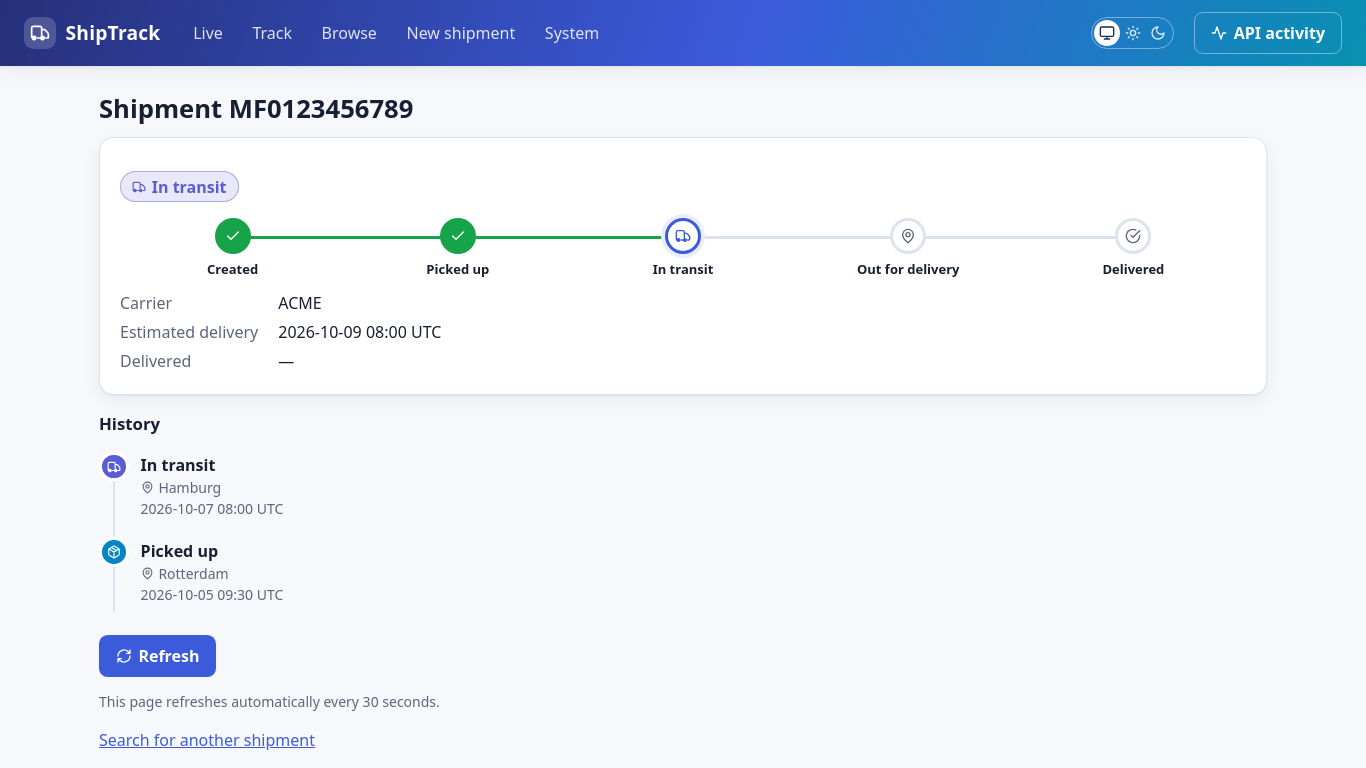
Test: track page: refreshing › refreshes on demand with the Refresh button
This screenshot has width=1366, height=768.
Expected: the text "In transit" is shown, [120,171,239,202]
Click the button "Refresh".
click(158, 656)  # box [99,635,216,677]
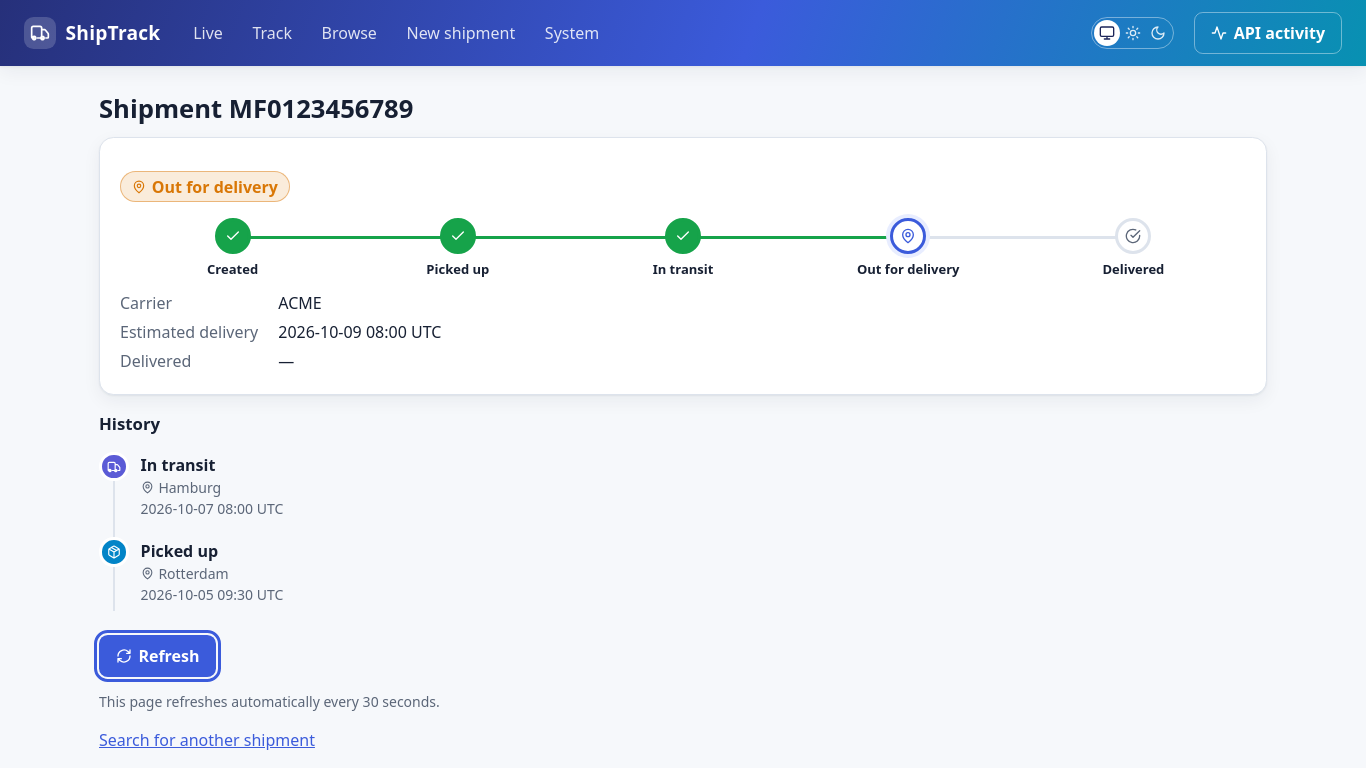
Expected: the text "Out for delivery" is shown, [120,171,290,202]
